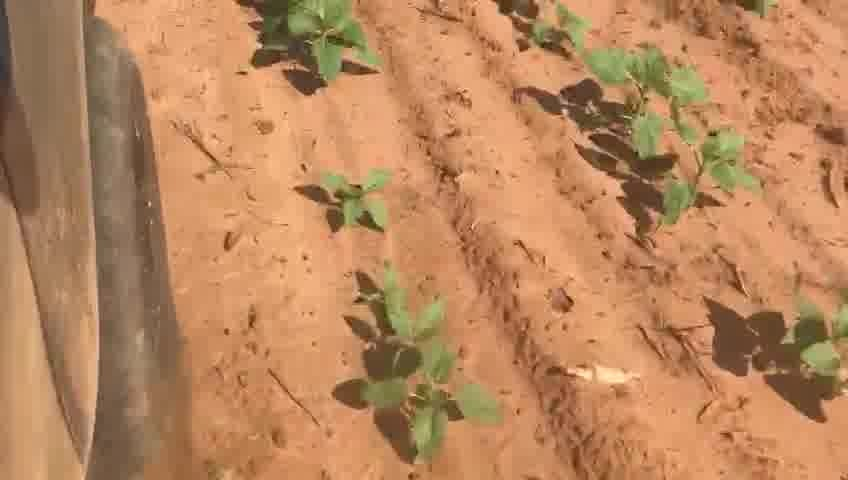sunflower: (355, 342, 506, 469), (602, 113, 761, 228), (247, 4, 389, 99), (751, 301, 840, 423), (577, 43, 707, 123), (354, 268, 451, 359), (307, 161, 402, 234), (515, 4, 595, 55)
